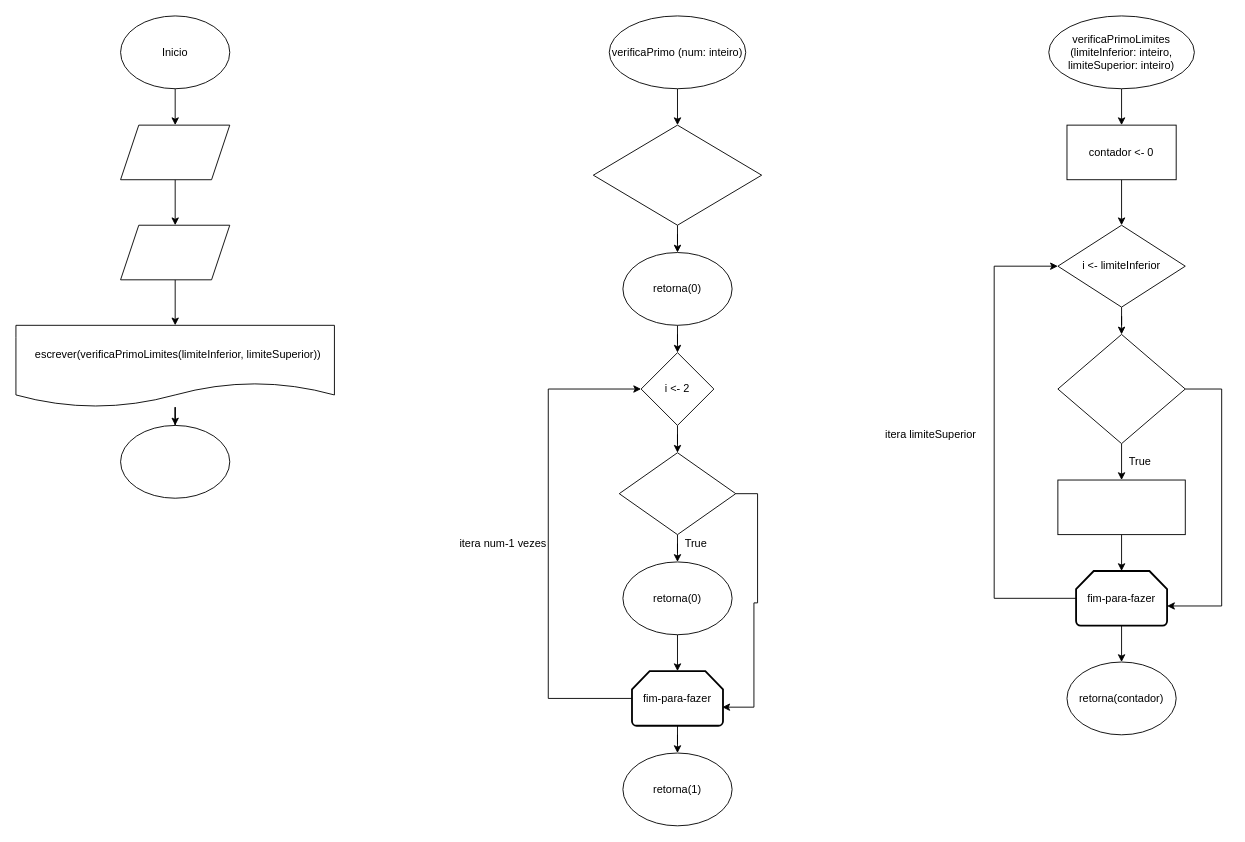
The diagram is 1245 pixels wide and 842 high, and some of its shapes have lost their labels. The box of each missing label's shape, as (x1, y1, x2, y2) in pixels:
contador <- contador + 1: (1057, 479, 1185, 535)
Fim: (120, 425, 230, 498)
ler(limiteInferior): (120, 124, 230, 180)
ler(limiteSuperior): (120, 224, 230, 280)
se (numero % i = 0): (618, 452, 736, 535)
se (numero = 0 ou numero = 1): (592, 124, 762, 225)
se(verificaPrimo(i) = 1): (1057, 334, 1185, 444)
